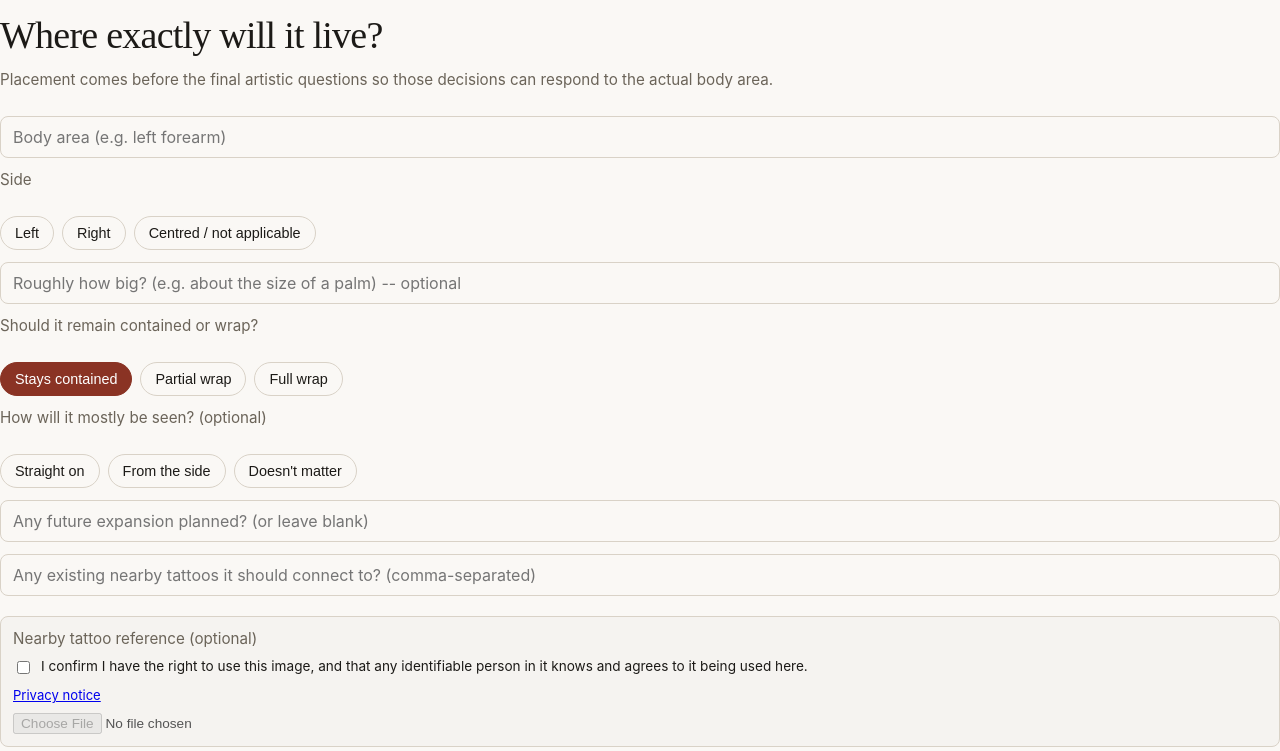
Placement -- third-party photo rights checkboxes (two independent upload slots) › checking both checkboxes enables both uploads
Click the checkbox labelled "I confirm I have the right to use this image" at (24, 668), box [17,661,30,674]
(page scrolled)
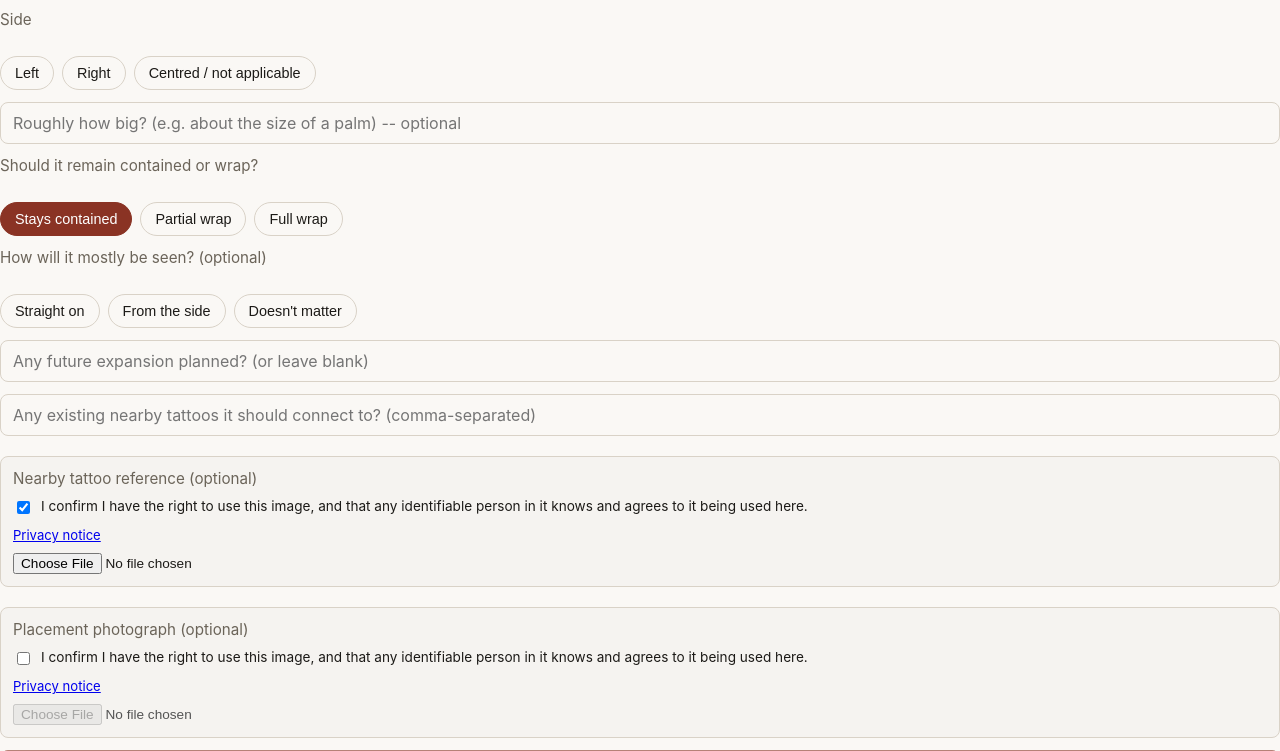
Click the checkbox labelled "I confirm I have the right to use this image" below "Placement photograph (optional)" at (24, 659), box [17,652,30,665]
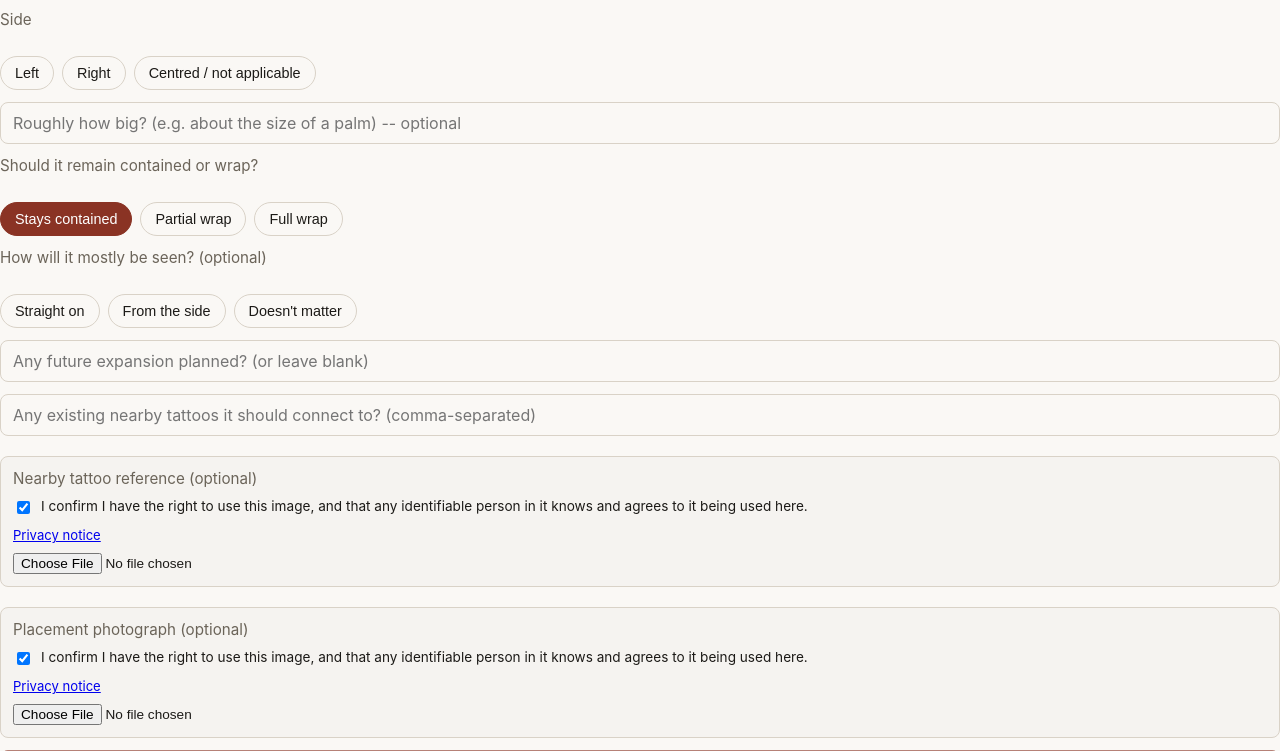
Check: the file field below "Nearby tattoo reference (optional)" is enabled, box [13,553,1267,574]
Check: the file field below "Placement photograph (optional)" is enabled, box [13,704,1267,725]
